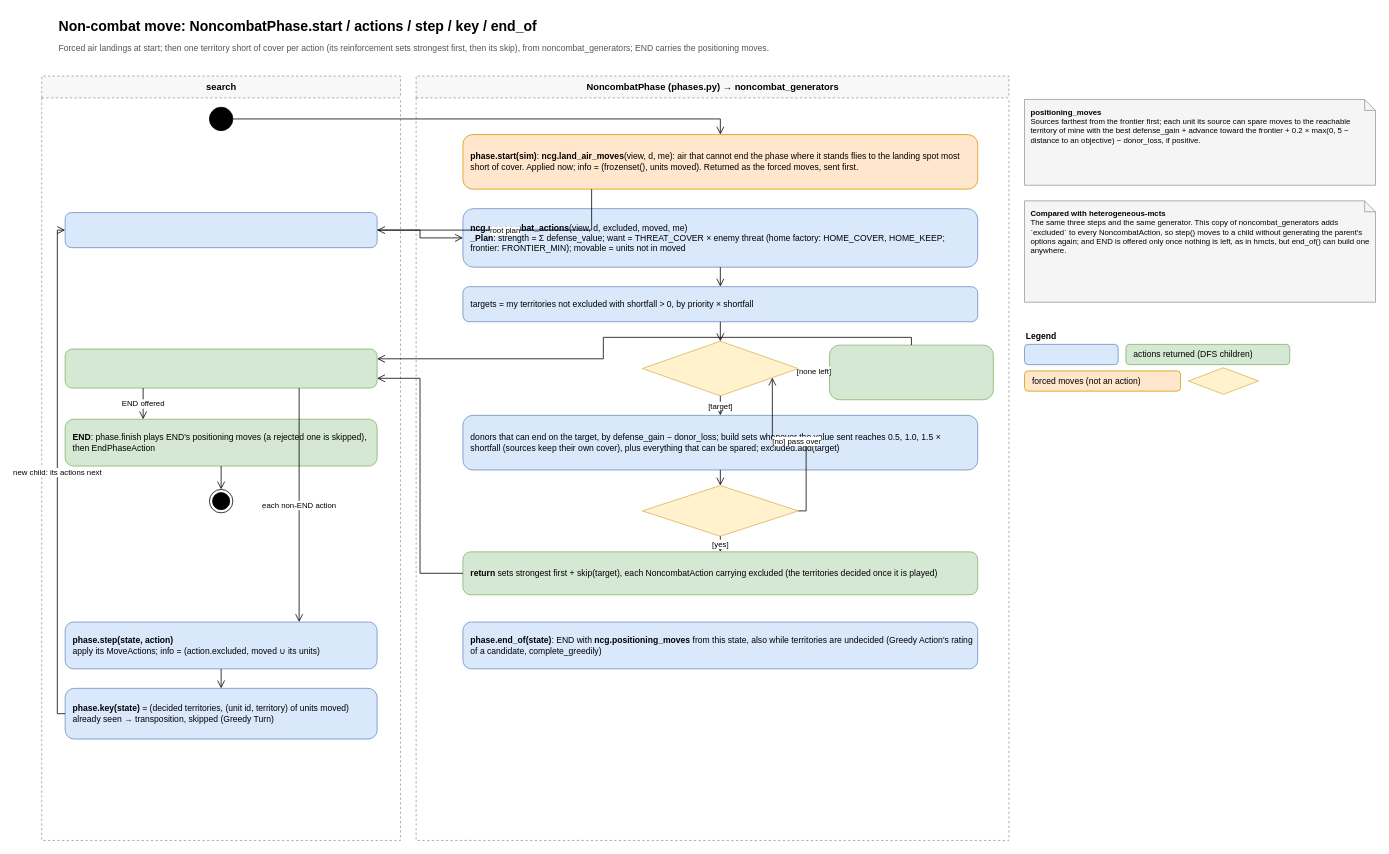
Image size: 1389x854. Some labels were removed from this diagram. The shapes that lost their labels are listed below. From the top down, each one's centre as x and y in pixels, then its label:
At point 220,230: "phase.actions(state) at a plan".
At point 220,368: "actions = children to try, in this order".
At point 720,368: "next target?".
At point 911,372: "return [NoncombatAction(end_phase, excluded, moves = positioning_moves)]".
At point 1071,354: "step".
At point 1223,380: "guard".
At point 720,510: "any set?".
